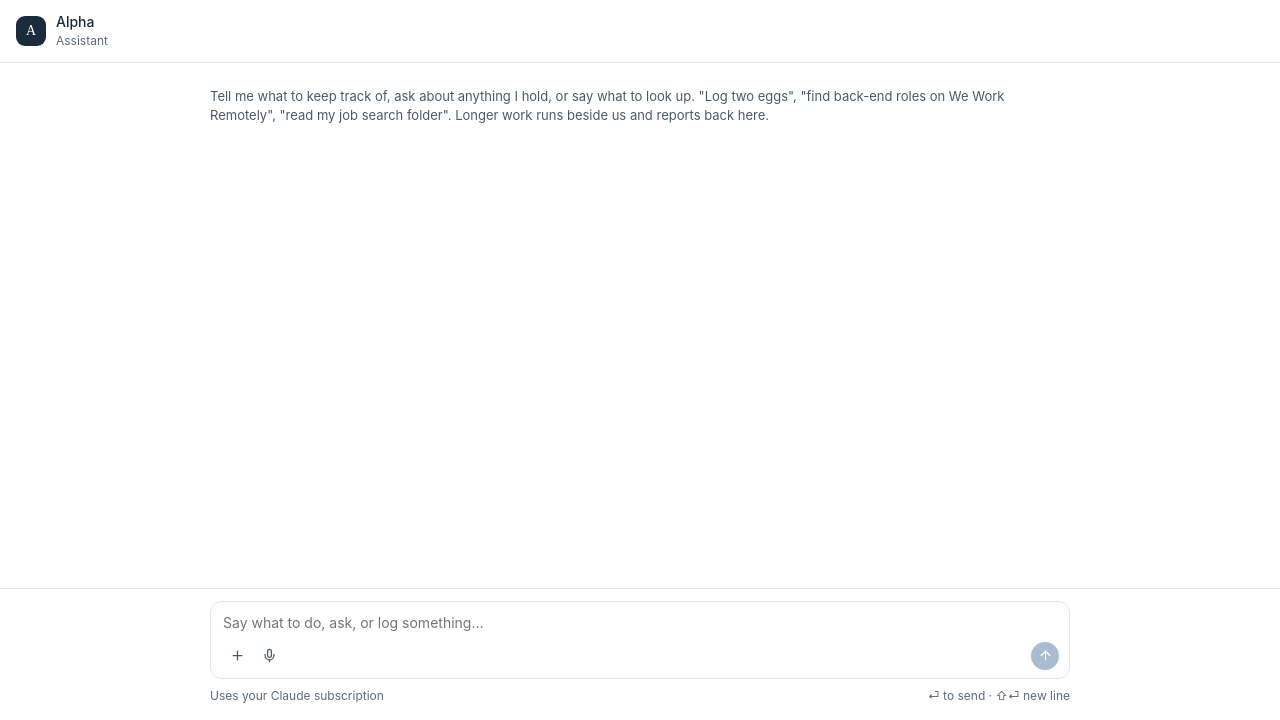
it: the reply as it is written › shows the words so far and the steps so far, the time and Stop, and no headline that flips
The image size is (1280, 720).
In the text box named "Message Alpha": (641, 624) [223,612,1059,636], type "log two eggs"
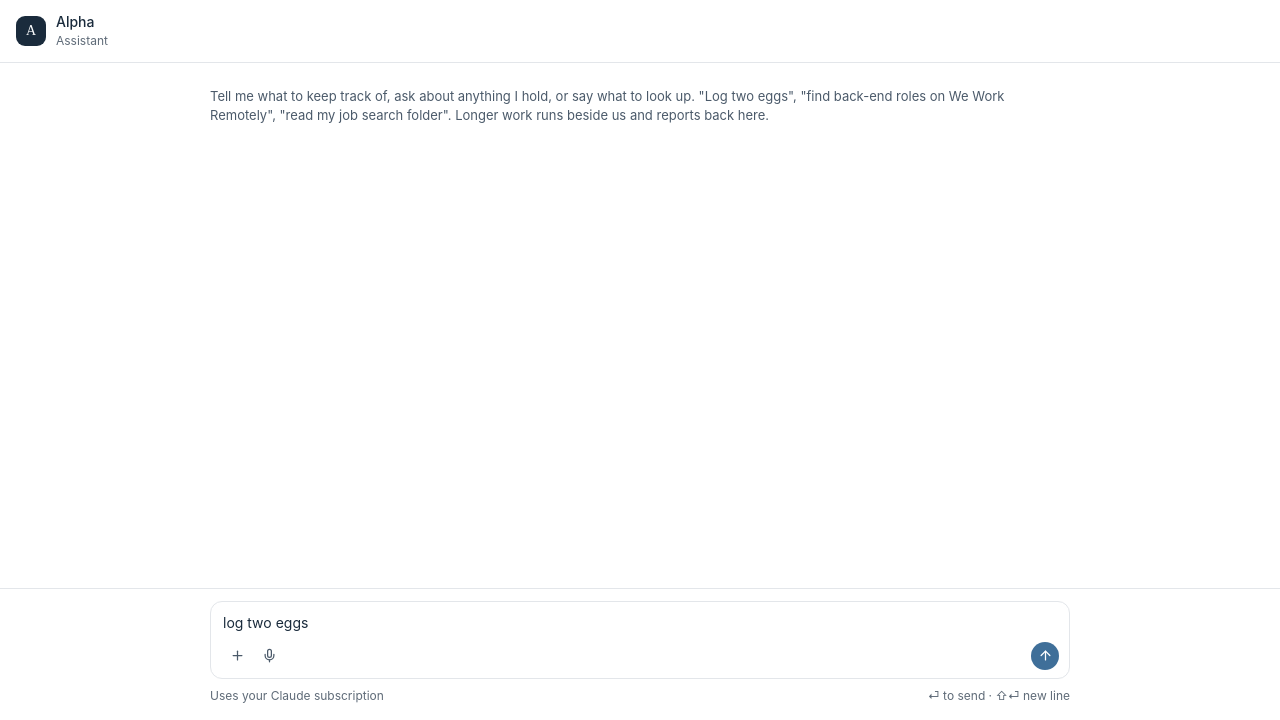
Press Enter in the text box named "Message Alpha", box [223,612,1059,636]
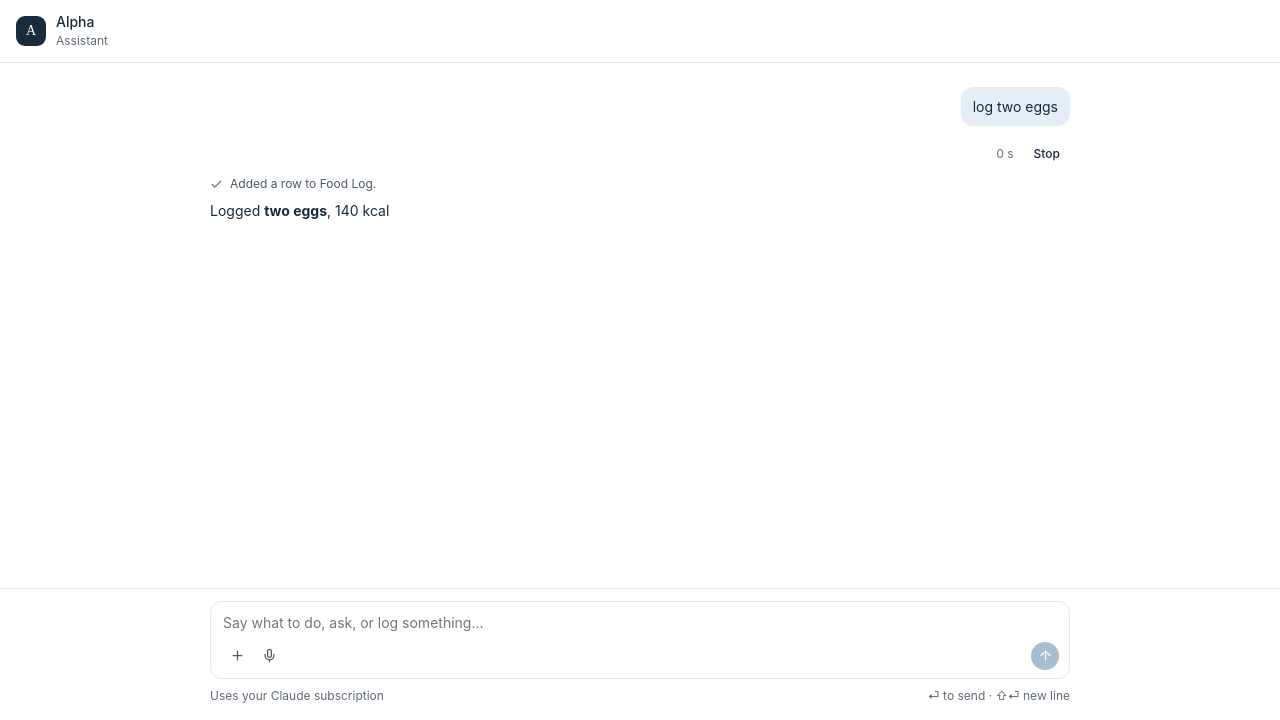
Now the text "two eggs" is shown, box [264,202,327,219]
Now the text "Added a row to Food Log." is shown, box [230,175,376,194]
Now the button "Stop" is shown, box [1024,140,1070,168]
